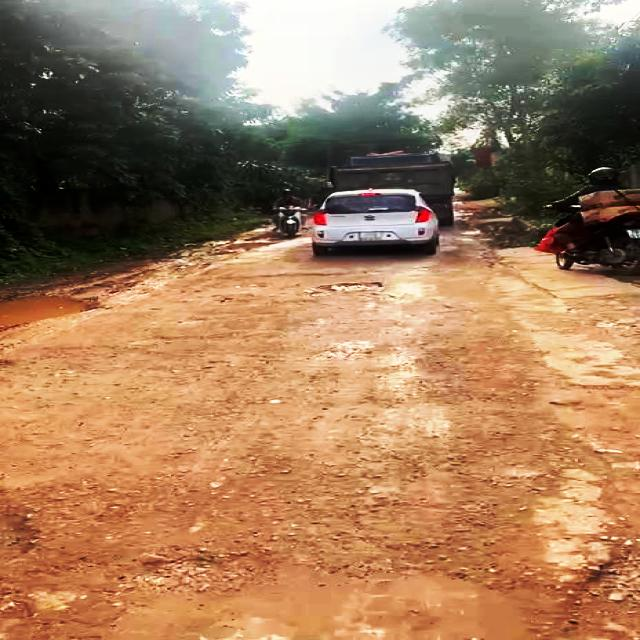pothole: (0, 288, 113, 334), (580, 527, 640, 612), (0, 504, 50, 561), (315, 281, 386, 294)
